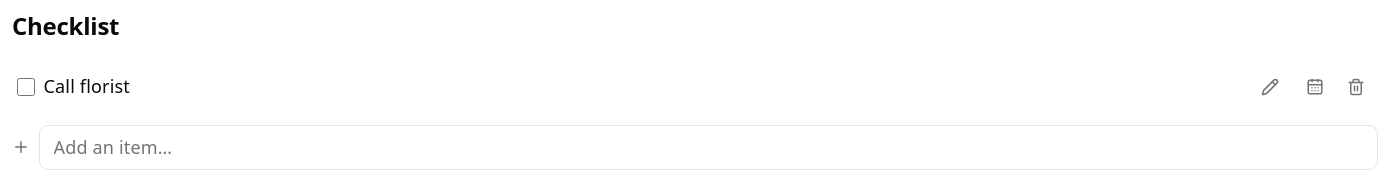
ChecklistSection › hides a deleted item immediately and shows Undo
Click the button named "Remove checklist item Call florist" at point(1356, 87), box [1338,69,1374,105]
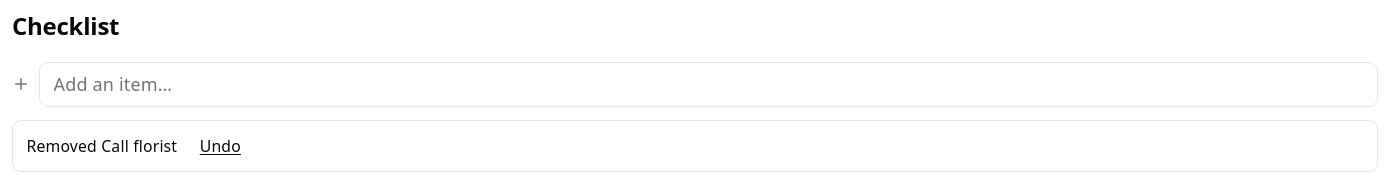
Result: the button with aria-label "Undo removing Call florist" is shown at [191,130,250,162]
